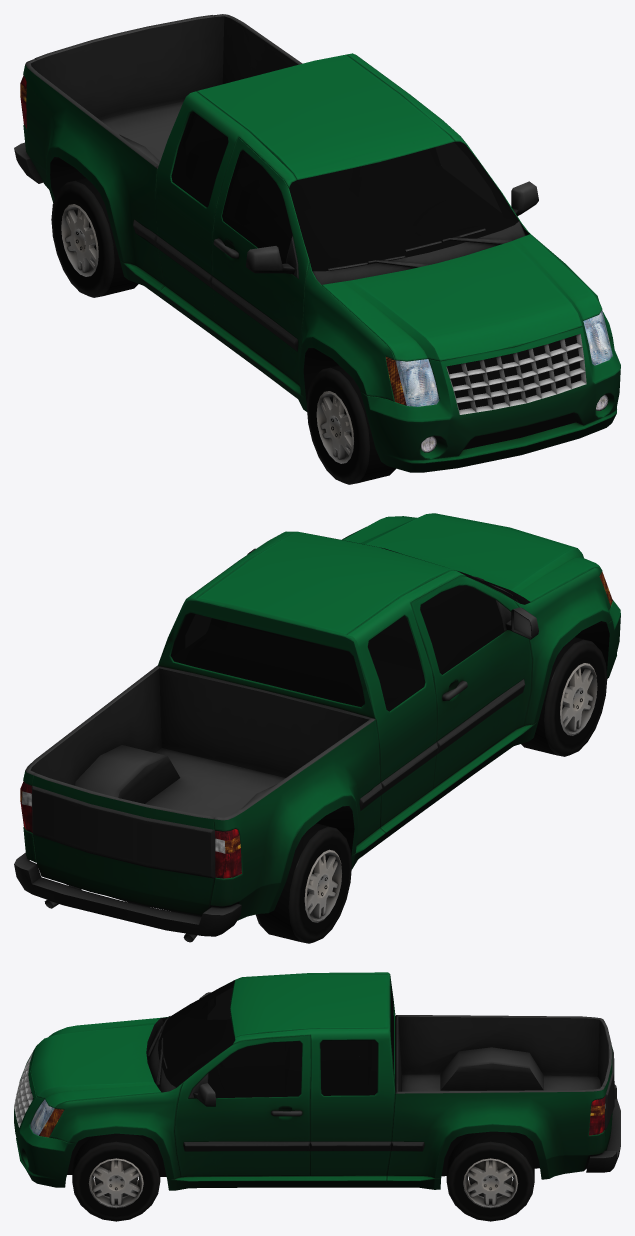
File: car_pickup.glb
3 views of the same model, one above another, from view 1: azimuth 30°, elevation 25°; view 2: azimuth 150°, elevation 25°; view 3: azimuth 270°, elevation 25° (orthographic). The views are drawn at different scales.
Visible parts, largest first — view 1: Pickup_Body, Wheel_E002, Wheel_E003; view 2: Pickup_Body, Wheel_E003, Wheel_E002; view 3: Pickup_Body, Wheel_E001, Wheel_E.
Part boxes in pixels (left/top/right/bottom): Pickup_Body: left=14, top=14, right=620, bottom=472; Wheel_E002: left=306, top=365, right=395, bottom=484; Wheel_E003: left=51, top=178, right=138, bottom=297; Pickup_Body: left=14, top=513, right=620, bottom=942; Wheel_E003: left=256, top=823, right=351, bottom=943; Wheel_E002: left=521, top=637, right=607, bottom=756; Pickup_Body: left=14, top=972, right=620, bottom=1190; Wheel_E001: left=446, top=1131, right=534, bottom=1221; Wheel_E: left=72, top=1133, right=160, bottom=1221.
Bounding box in the file's own units: 2.07 × 1.69 × 5.18.
Materials: 4 (3 with a texture image).
